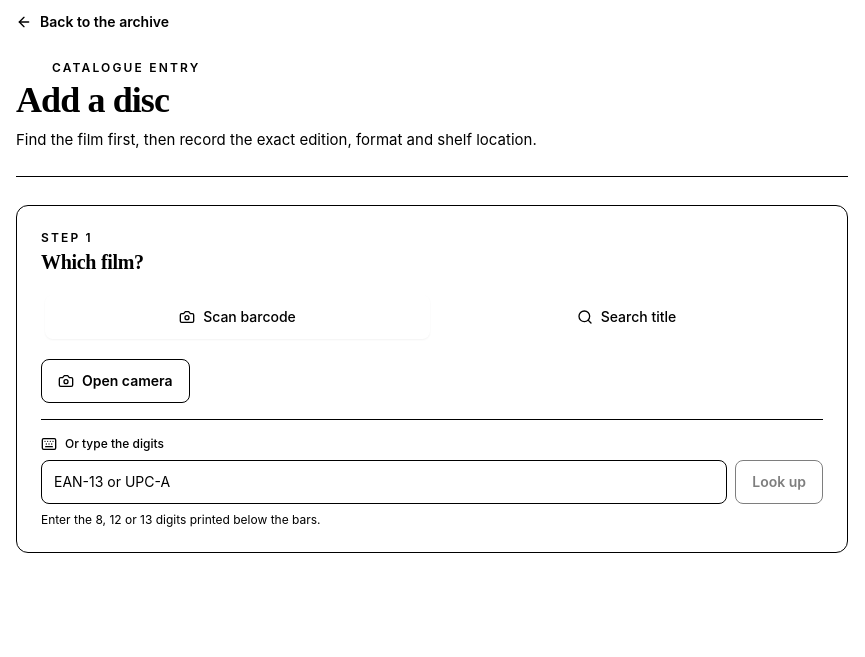
Test case: AddToCollectionPage — Batch Y5 › reads an answer from before Y5, which has no series
The width and height of the screenshot is (865, 657).
Click the tab "Search title". click: (626,317)
box: [434,295,819,339]
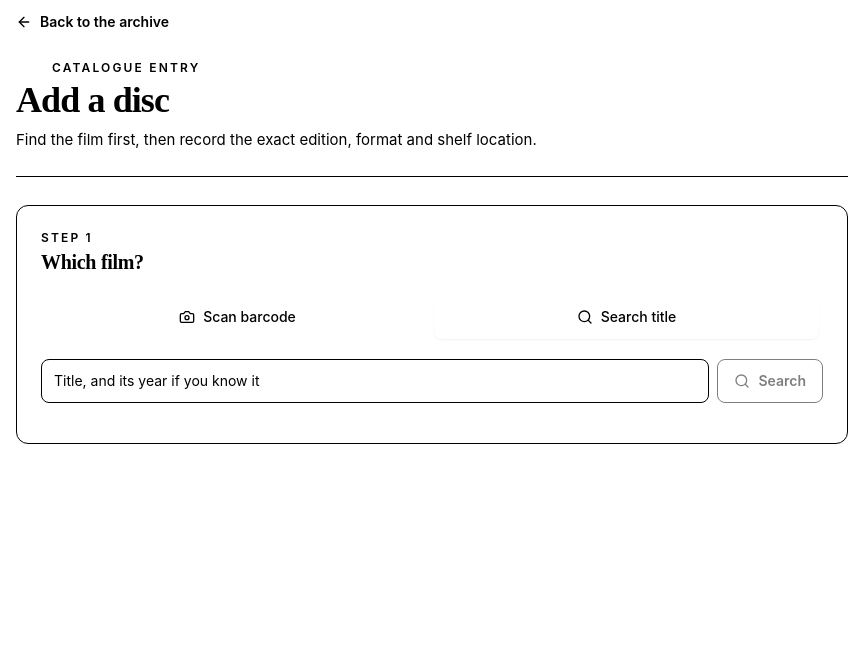
Type "Gilda" into the field named "Search for a film". click: (375,381)
box: [41,359,710,403]
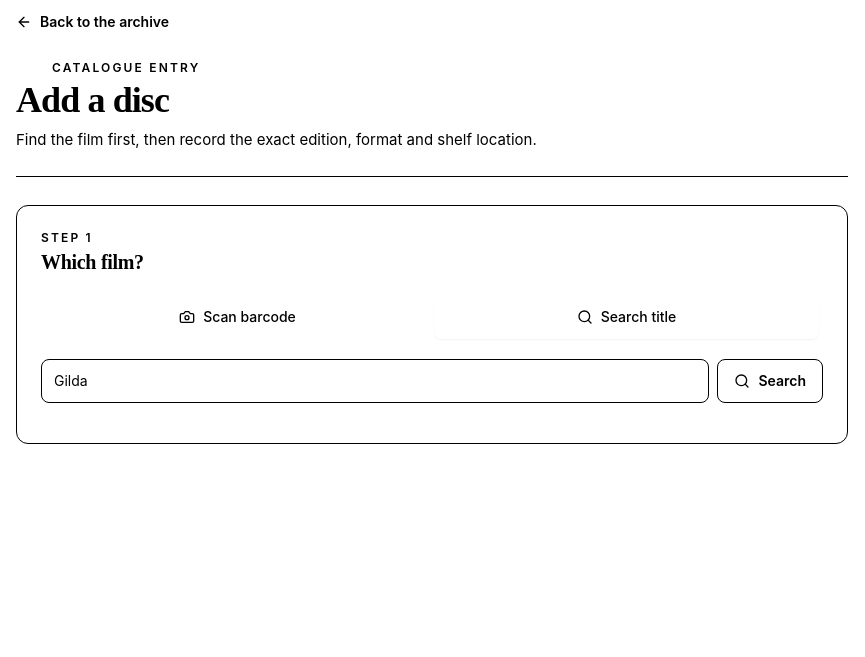
Click the button "Search". click: (770,381)
box: [718,359,823,403]
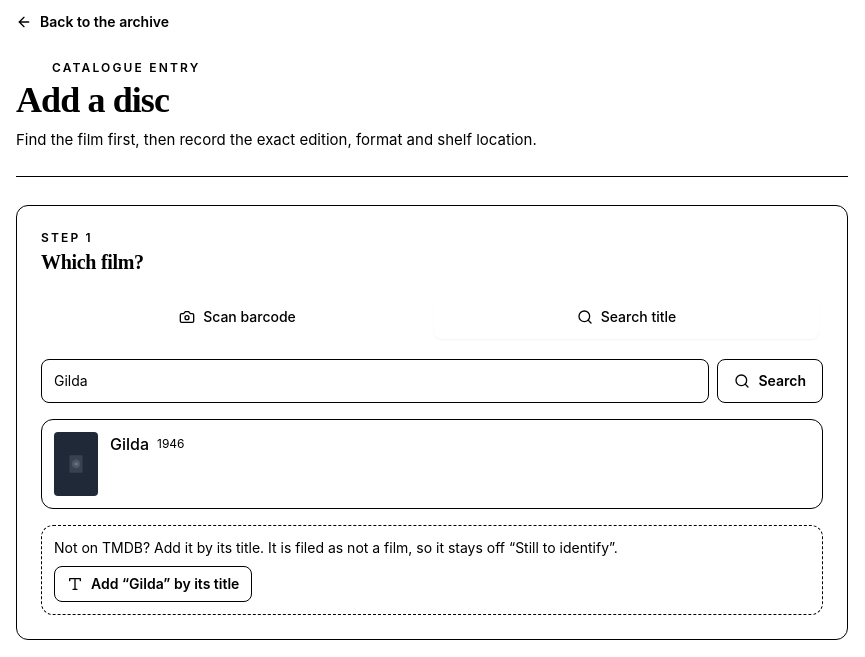
Result: the list named "Films found" is shown at [41,419,823,509]
